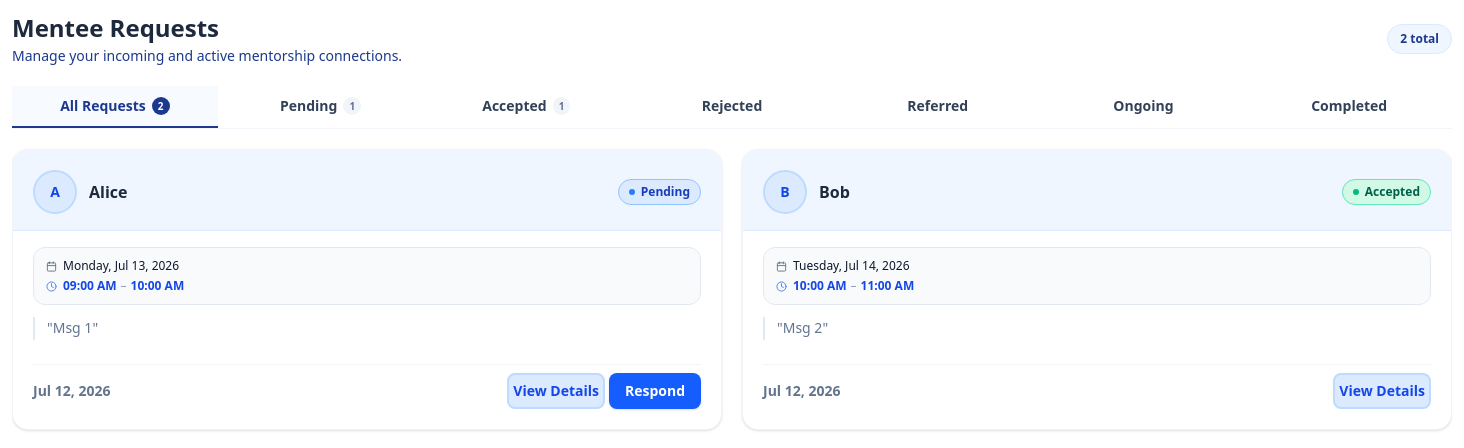
Test: RequestsTab Component › filters requests by tab selection
expect the text "Alice" is shown: met, box [89,181,128,203]
expect the text "Bob" is shown: met, box [819,181,850,203]
Note: Click 'Pending' tab button
Click the button "Pending 1": coordinates (321, 107) [218,86,423,128]
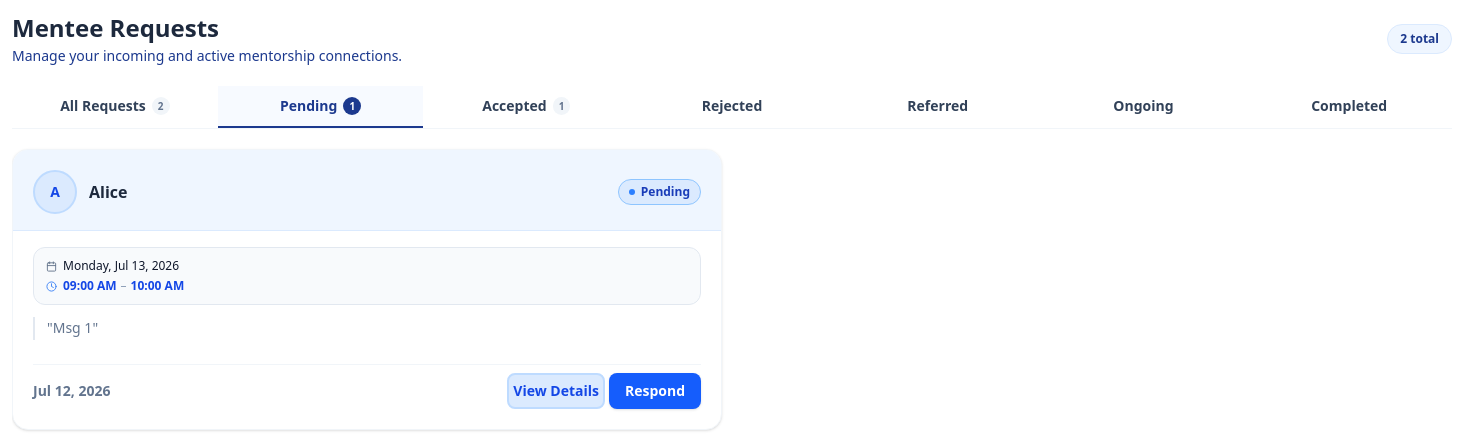
expect the text "Alice" is shown: met, box [89,181,128,203]
expect the text "Bob" is gone: met
